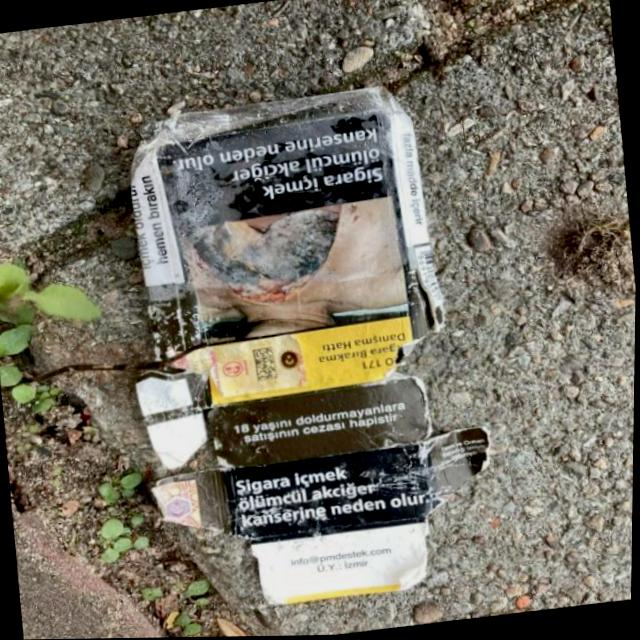Paper: (94, 73, 513, 623)
